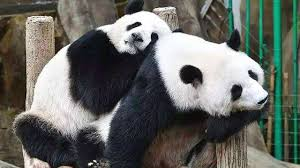panda: (12, 1, 184, 167), (112, 27, 271, 168)
